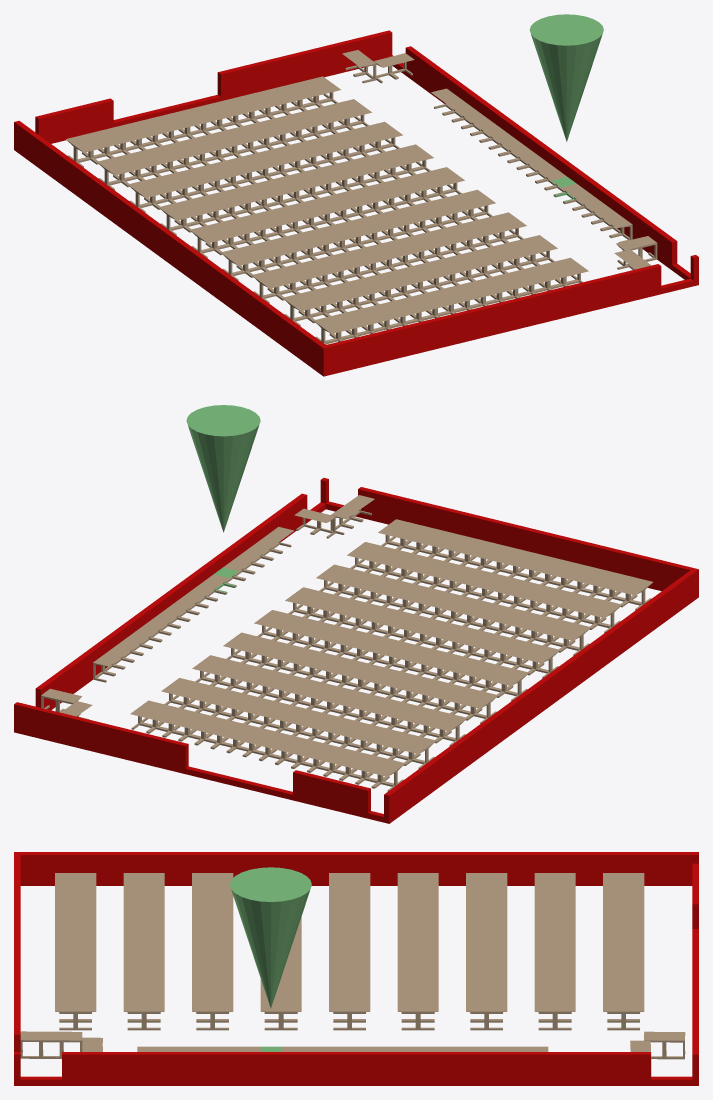
File: Boek 2.glb
3 views of the same model, one above another, from view 1: azimuth 30°, elevation 25°; view 2: azimuth 150°, elevation 25°; view 3: azimuth 270°, elevation 25° (orthographic). The views are drawn at different scales.
Parts seen in each view (by area): view 1: Mesh_Mesh_head_geo.001_lambert2SG.001; view 2: Mesh_Mesh_head_geo.001_lambert2SG.001; view 3: Mesh_Mesh_head_geo.001_lambert2SG.001.
Part boxes in pixels (box(x1,y1,x2,y2)): Mesh_Mesh_head_geo.001_lambert2SG.001: box(14, 14, 698, 376); Mesh_Mesh_head_geo.001_lambert2SG.001: box(14, 405, 698, 823); Mesh_Mesh_head_geo.001_lambert2SG.001: box(14, 852, 698, 1085).
Size of the model in its own units: 73 by 31 by 100.
